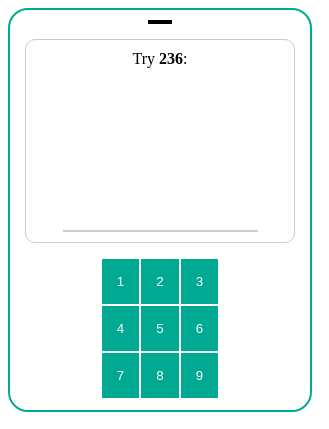
Test: assertion tests › click button change input value
Click the button "2" at [160, 282], box x1=140 y1=258 x2=180 y2=305
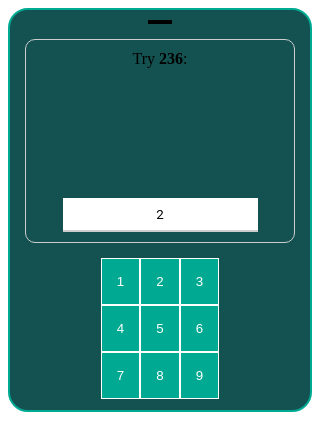
Expected: the field named "numbers" holds "2", x1=62 y1=198 x2=258 y2=232
